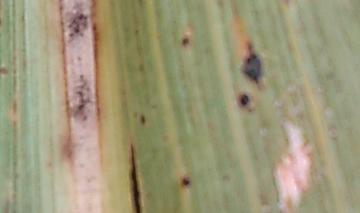tarspot: (240, 44, 262, 85), (239, 92, 250, 106), (180, 36, 190, 47), (180, 177, 190, 187), (139, 113, 145, 127)
